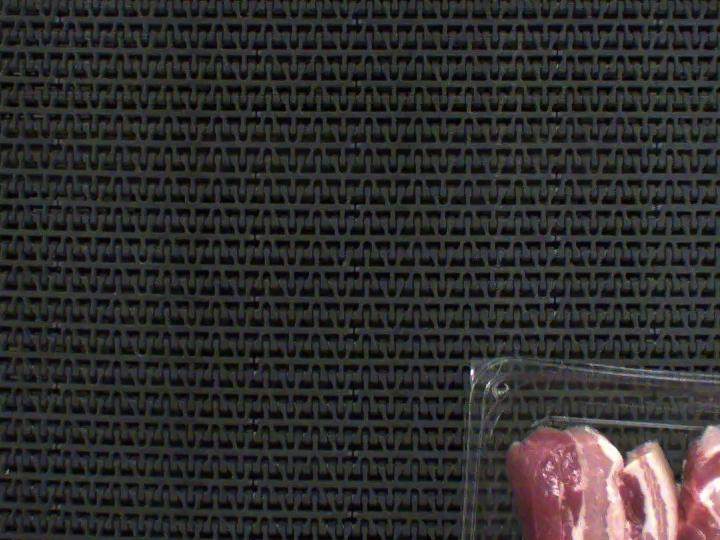wrinkle: (628, 525, 720, 540)
